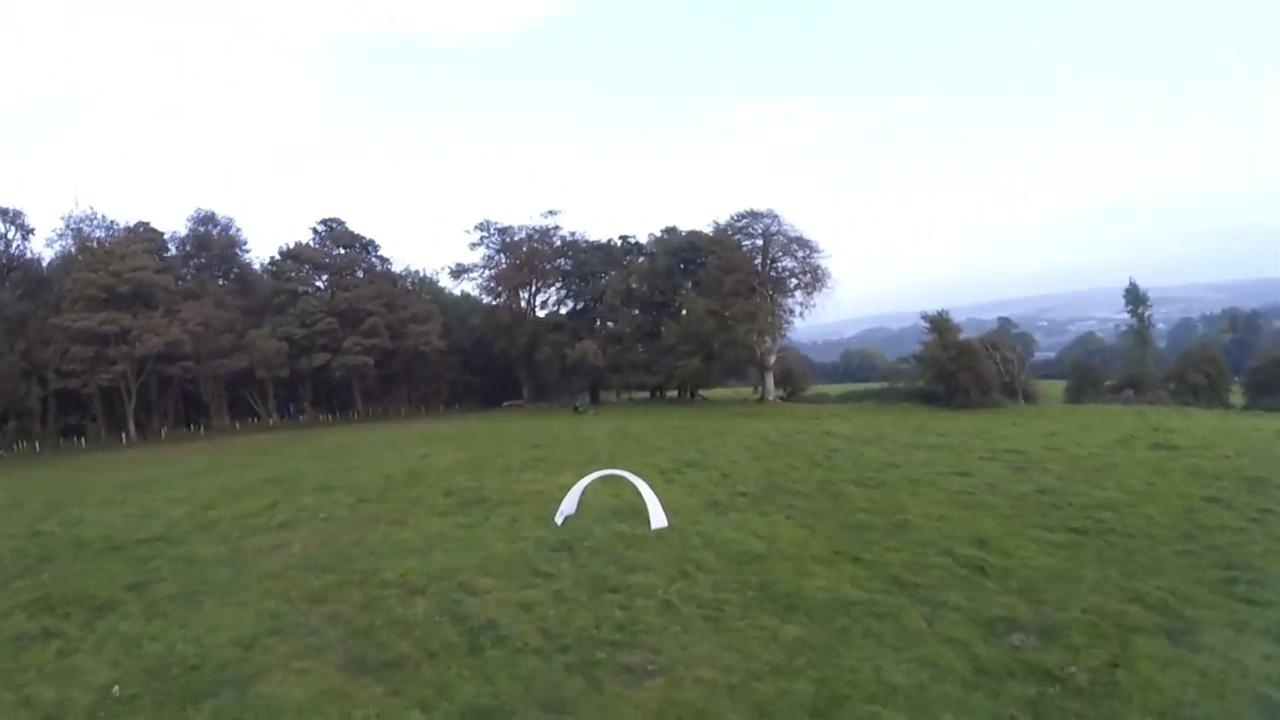gate: (553, 469, 668, 536)
